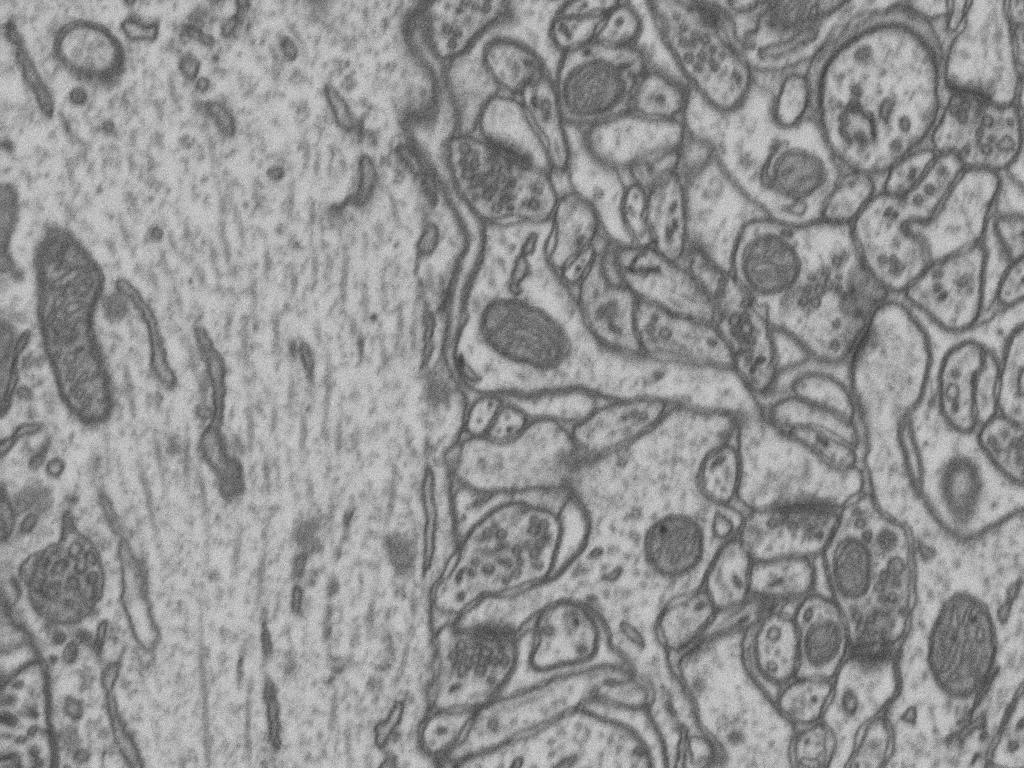mitochondria: (45, 265, 151, 453), (925, 596, 1011, 716), (462, 279, 555, 376), (735, 0, 865, 69), (634, 502, 719, 599), (741, 239, 822, 312), (755, 143, 832, 216), (827, 516, 886, 597), (552, 66, 622, 130), (791, 615, 855, 679), (574, 290, 645, 347), (434, 59, 491, 116), (874, 512, 921, 575), (858, 722, 902, 765)
